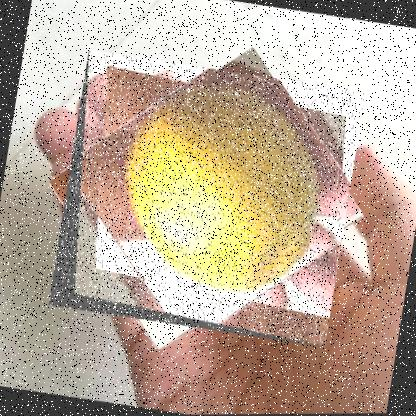orange: (46, 47, 364, 349)
